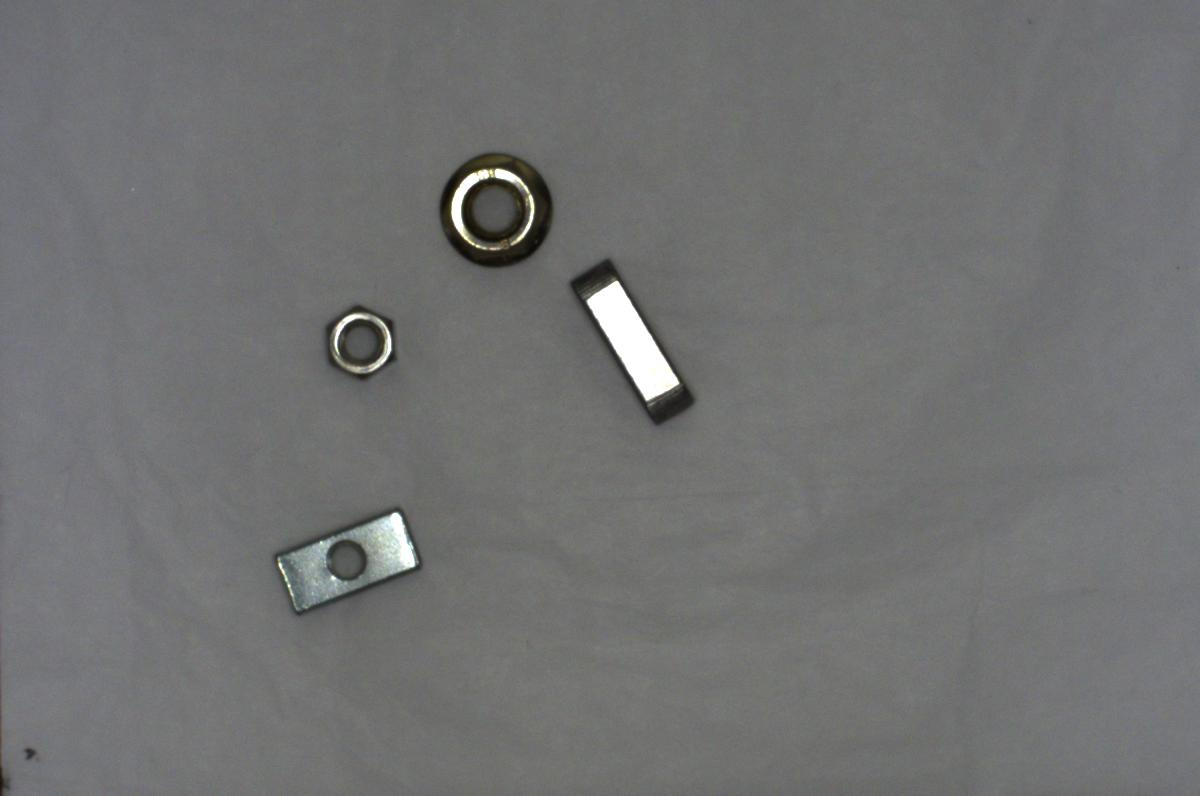Flange nut: (435, 147, 554, 267)
Hexagon nut: (318, 290, 394, 381)
Keybar: (567, 253, 694, 428)
Rectangular nut: (264, 502, 430, 615)
